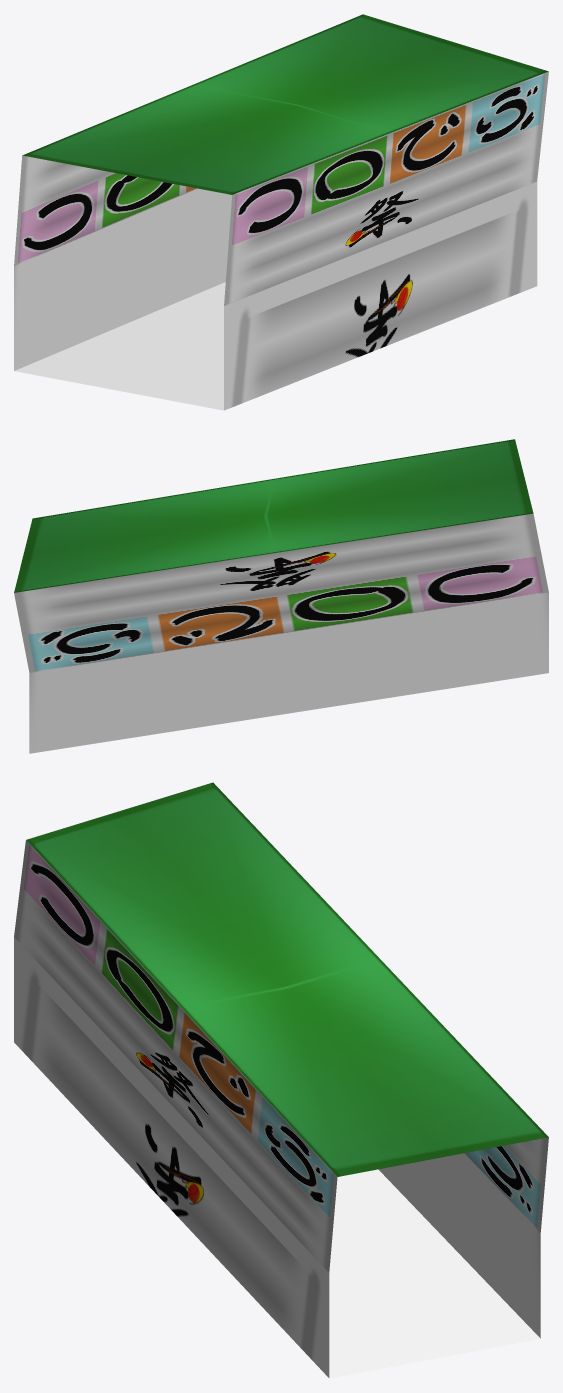
The model's file is CourseAki_Wall_L_2_8.fbx.
3 renders of one model, top to bottom at view 1: azimuth 30°, elevation 25°; view 2: azimuth 150°, elevation 25°; view 3: azimuth 270°, elevation 25°, orthographic. The views are drawn at different scales.
Visible parts, largest first — view 1: polySurface320; view 2: polySurface320; view 3: polySurface320.
Part boxes in pixels (<box>): polySurface320: <box>14,14,548,410</box>; polySurface320: <box>14,439,548,753</box>; polySurface320: <box>14,782,548,1378</box>.
Size of the model in its own units: 6.02 by 2.98 by 4.6.
1 material, 1 textured.
